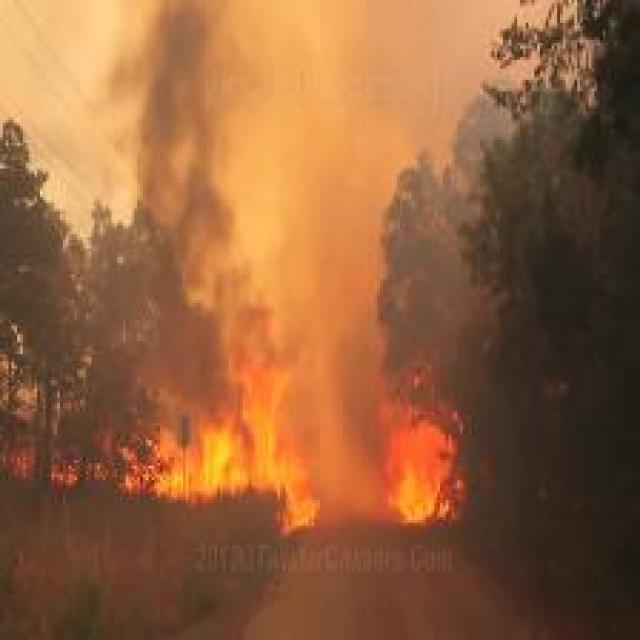Fire: (123, 312, 320, 532), (378, 358, 464, 522)
